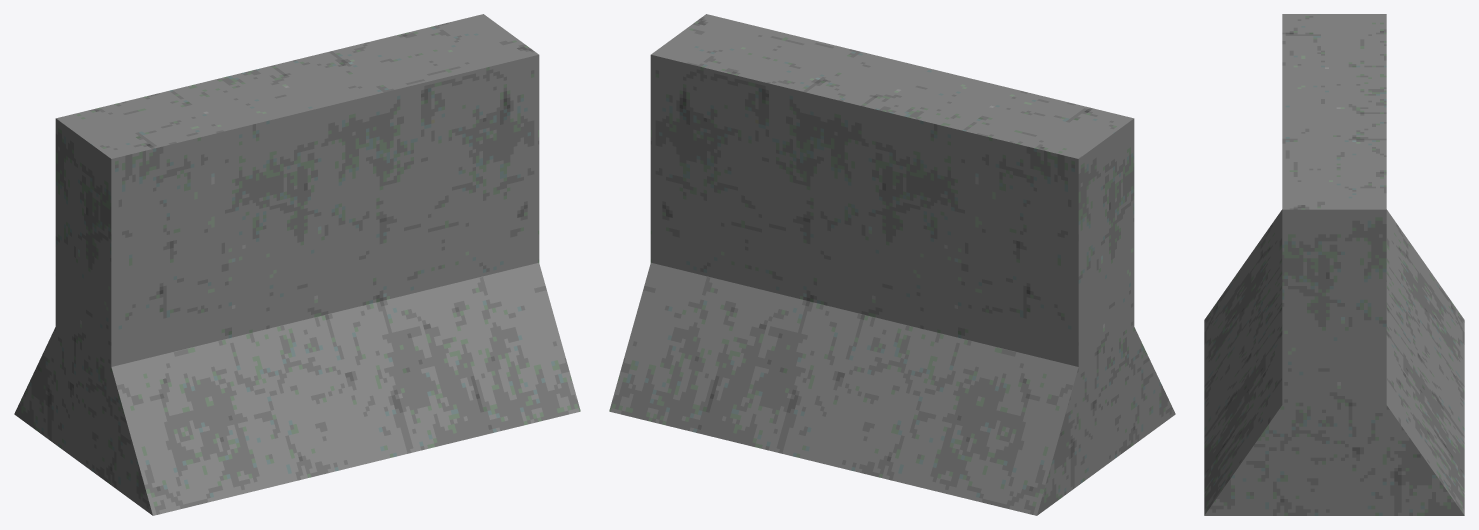
Rendered from barriar.glb.
3 renders of one model, left to right at view 1: azimuth 30°, elevation 25°; view 2: azimuth 150°, elevation 25°; view 3: azimuth 270°, elevation 25°, orthographic. The views are drawn at different scales.
Visible parts, largest first — view 1: Barriar; view 2: Barriar; view 3: Barriar.
Part boxes in pixels (x1,y1,x2,y2): Barriar: [14, 14, 580, 515]; Barriar: [609, 14, 1175, 515]; Barriar: [1204, 14, 1464, 515].
Size of the model in its own units: 1.87 by 1.36 by 1.05.
Materials: 1 (1 with a texture image).
